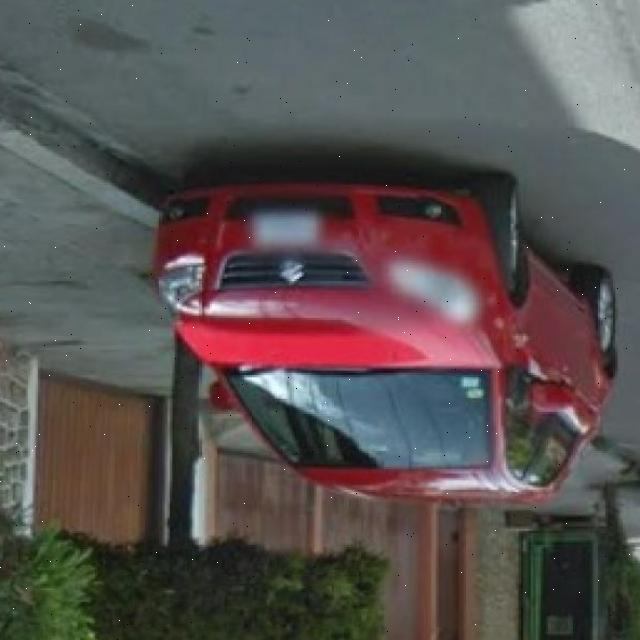car: (151, 132, 626, 493)
